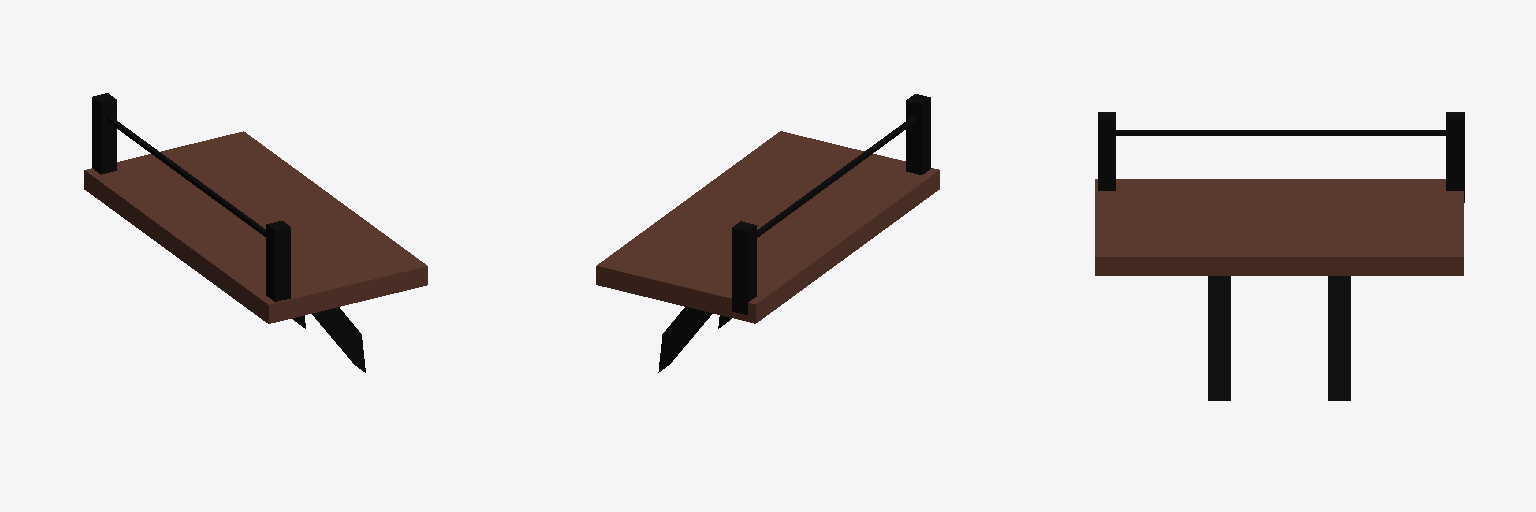
Rendered from Balkon_A.obj.
3 views of the same model, side by side, from view 1: azimuth 30°, elevation 25°; view 2: azimuth 150°, elevation 25°; view 3: azimuth 270°, elevation 25° (orthographic).
Parts seen in each view (by area): view 1: Balkon_A; view 2: Balkon_A; view 3: Balkon_A.
Boxes of the visible parts, <box> form: Balkon_A: <box>84,93,427,372</box>; Balkon_A: <box>596,94,939,372</box>; Balkon_A: <box>1095,112,1464,400</box>.
Bounding box in the file's own units: 9.29 × 12.16 × 18.62.